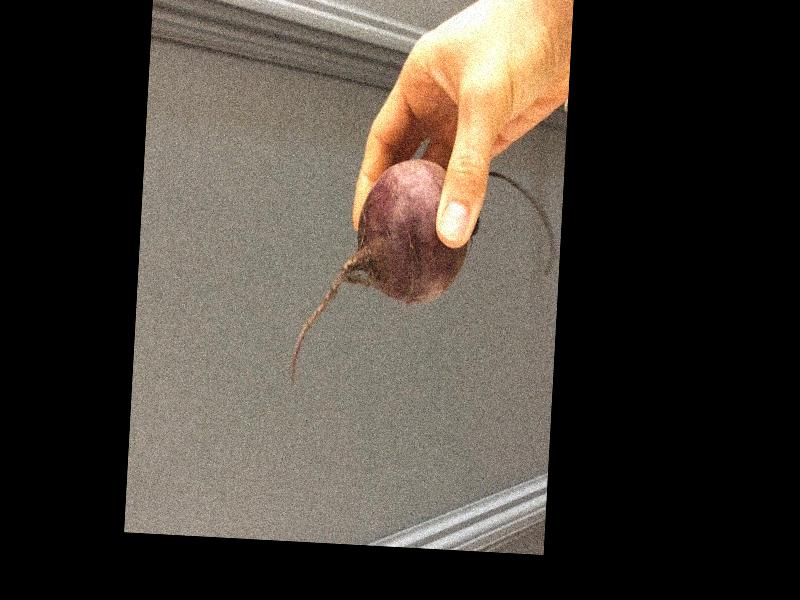Beet: (291, 154, 559, 399)
